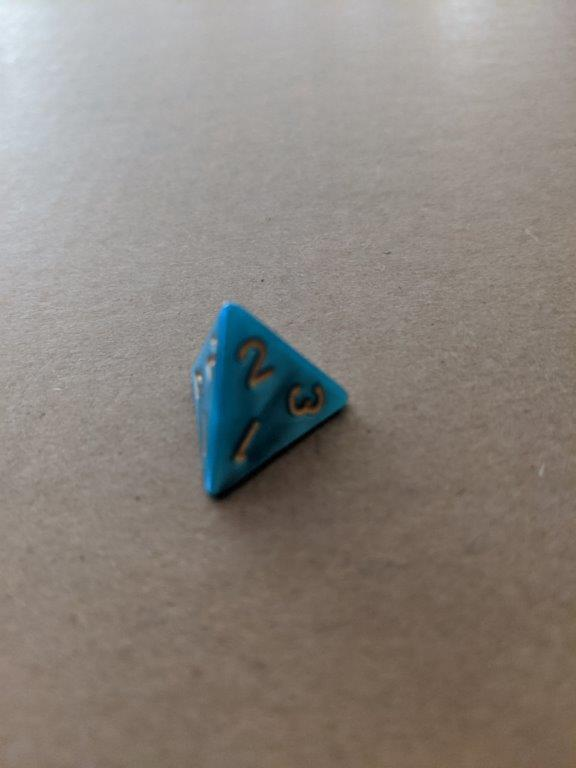d4-2: (187, 300, 356, 500)
